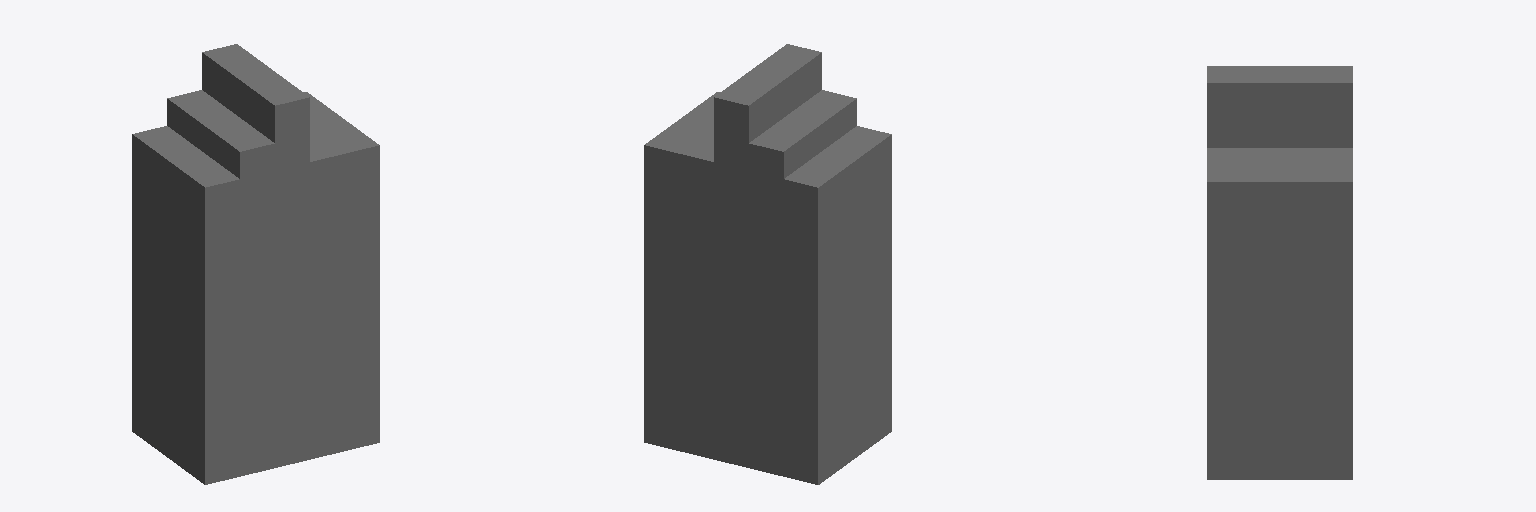
The model's file is cell2.obj.
3 renders of one model, left to right at view 1: azimuth 30°, elevation 25°; view 2: azimuth 150°, elevation 25°; view 3: azimuth 270°, elevation 25°, orthographic.
Parts seen in each view (by area): view 1: cell5:pasted__pCube9; view 2: cell5:pasted__pCube9; view 3: cell5:pasted__pCube9.
Boxes of the visible parts, <box> form: cell5:pasted__pCube9: <box>132,44,379,484</box>; cell5:pasted__pCube9: <box>644,44,891,484</box>; cell5:pasted__pCube9: <box>1207,66,1352,479</box>.
Bounding box in the file's own units: 63.25 × 125 × 45.98.